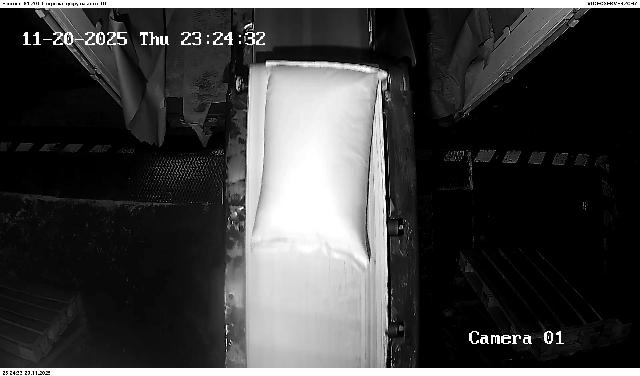bag: (250, 61, 387, 272)
